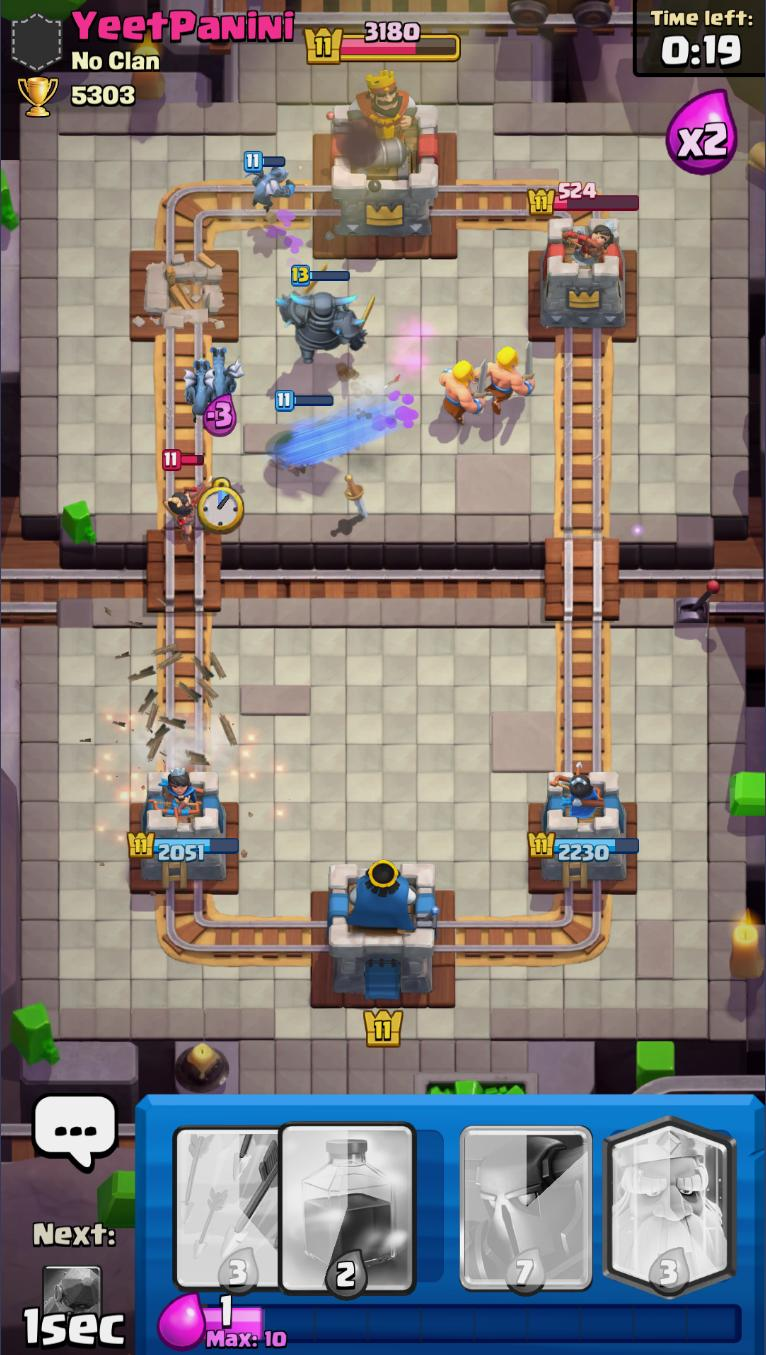ArrowDeck: (167, 1095, 310, 1296)
BattleRamNext: (41, 1264, 103, 1343)
Elixir: (203, 1295, 744, 1350)
EnemyTower: (533, 214, 631, 331)
EnemyTowerBrocken: (125, 252, 236, 350)
KingTower: (326, 80, 443, 243)
KingTowerHP: (304, 20, 461, 65)
MyBandit: (266, 390, 335, 477)
MyBarbarian: (480, 338, 537, 415), (437, 361, 491, 426)
MyKingTower: (326, 858, 440, 1000)
MyMinion: (244, 155, 300, 208), (181, 359, 217, 420), (205, 350, 243, 406)
MyPekka: (278, 274, 377, 378)
MyPrincessTower: (126, 768, 240, 886), (528, 770, 640, 886)
MyPrincessTowerHP: (126, 830, 239, 862), (527, 832, 640, 862)
PekkaDeck: (456, 1094, 598, 1295)
Princess: (156, 449, 217, 541)
PrincessTower: (562, 212, 617, 266)
RageDeck: (311, 1095, 455, 1296)
RoyaleGhostDeck: (598, 1094, 742, 1296)
TowerPrincessHP: (527, 182, 640, 216)
